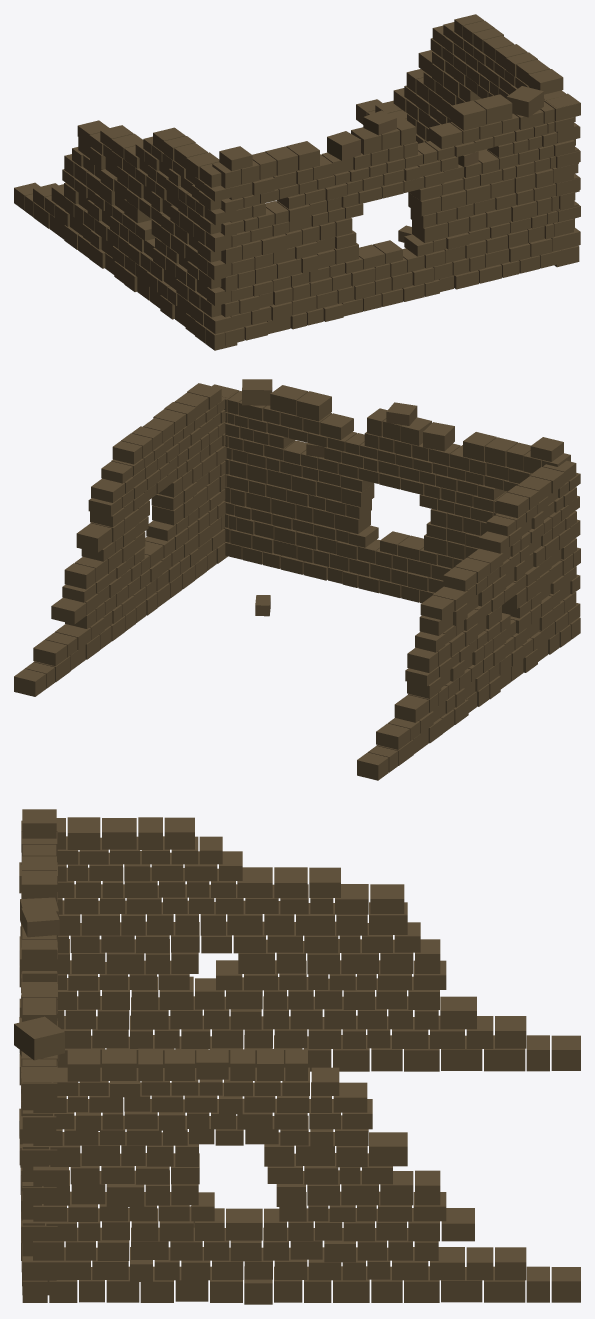
Rendered from BuldingDestr.fbx.
3 views of the same model, one above another, from view 1: azimuth 30°, elevation 25°; view 2: azimuth 150°, elevation 25°; view 3: azimuth 270°, elevation 25° (orthographic). The views are drawn at different scales.
Parts seen in each view (by area): view 1: Wall.004; view 2: Wall.004; view 3: Wall.004.
Boxes of the visible parts, x1,y1,x2,y2 form: Wall.004: [14, 14, 580, 350]; Wall.004: [14, 379, 580, 780]; Wall.004: [14, 809, 580, 1304].
Size of the model in its own units: 2745 by 1331 by 2645.
